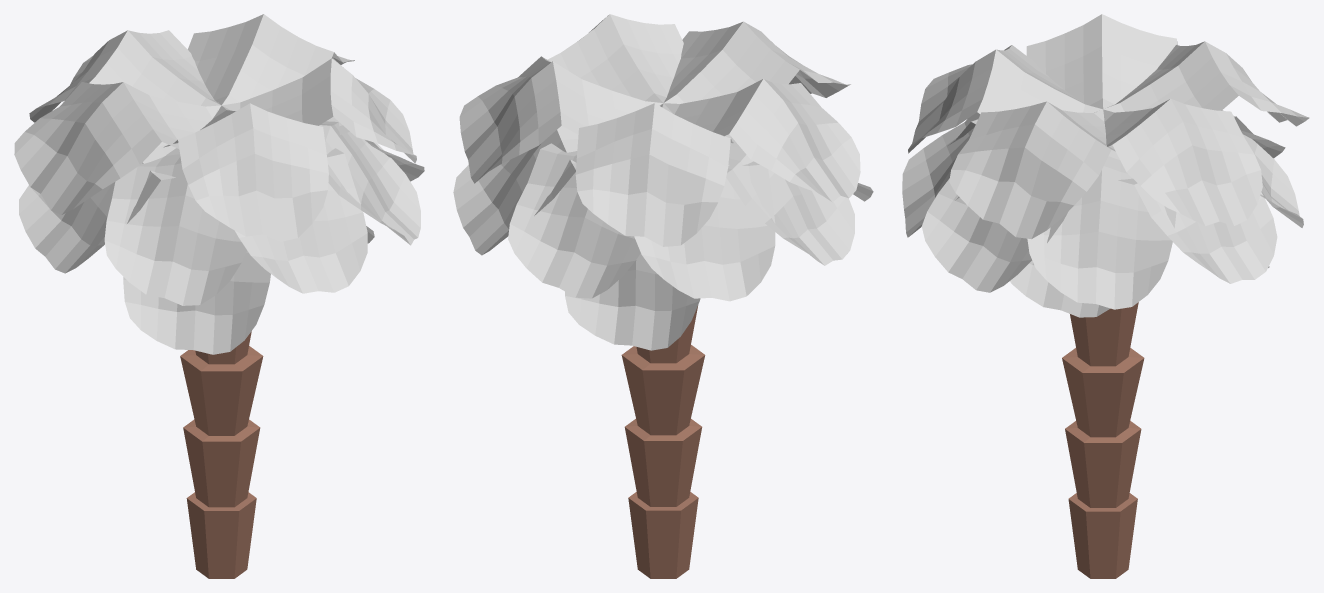
File: Palm_01.fbx
3 views of the same model, side by side, from view 1: azimuth 30°, elevation 25°; view 2: azimuth 150°, elevation 25°; view 3: azimuth 270°, elevation 25° (orthographic).
Parts seen in each view (by area): view 1: Palm_01; view 2: Palm_01; view 3: Palm_01.
Part boxes in pixels (box(x1,y1,x2,y2)): Palm_01: box(14, 14, 424, 578); Palm_01: box(453, 14, 873, 578); Palm_01: box(902, 14, 1309, 578).
Size of the model in its own units: 279 by 384 by 279.
